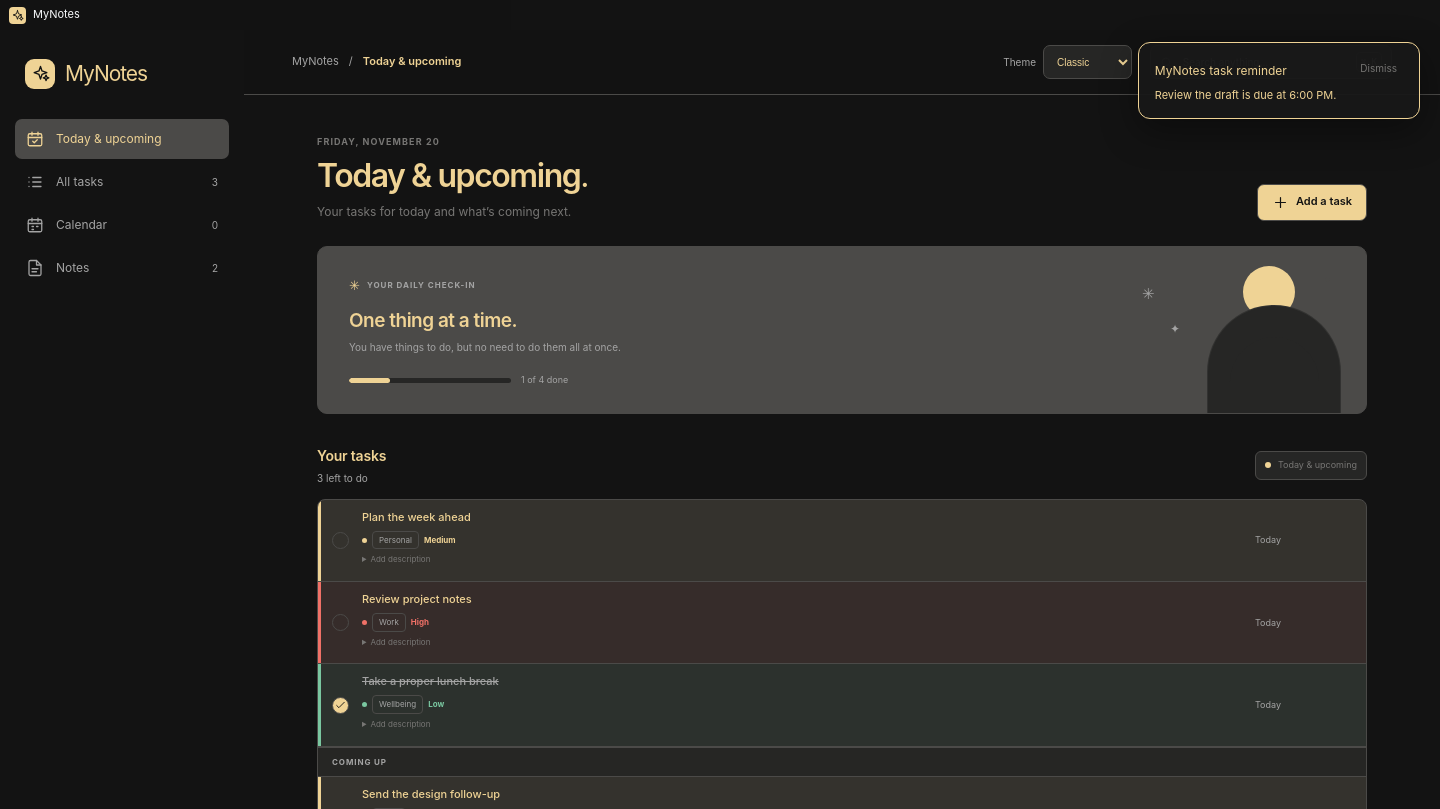
Test: Notes editor › shows and dismisses a reminder while the app window is open
Expected: the message shows "Review the draft is due at 6:00 PM.", [1155, 88, 1336, 102]
Click the button with aria-label "Dismiss reminder": (1379, 68) [1354, 57, 1403, 79]
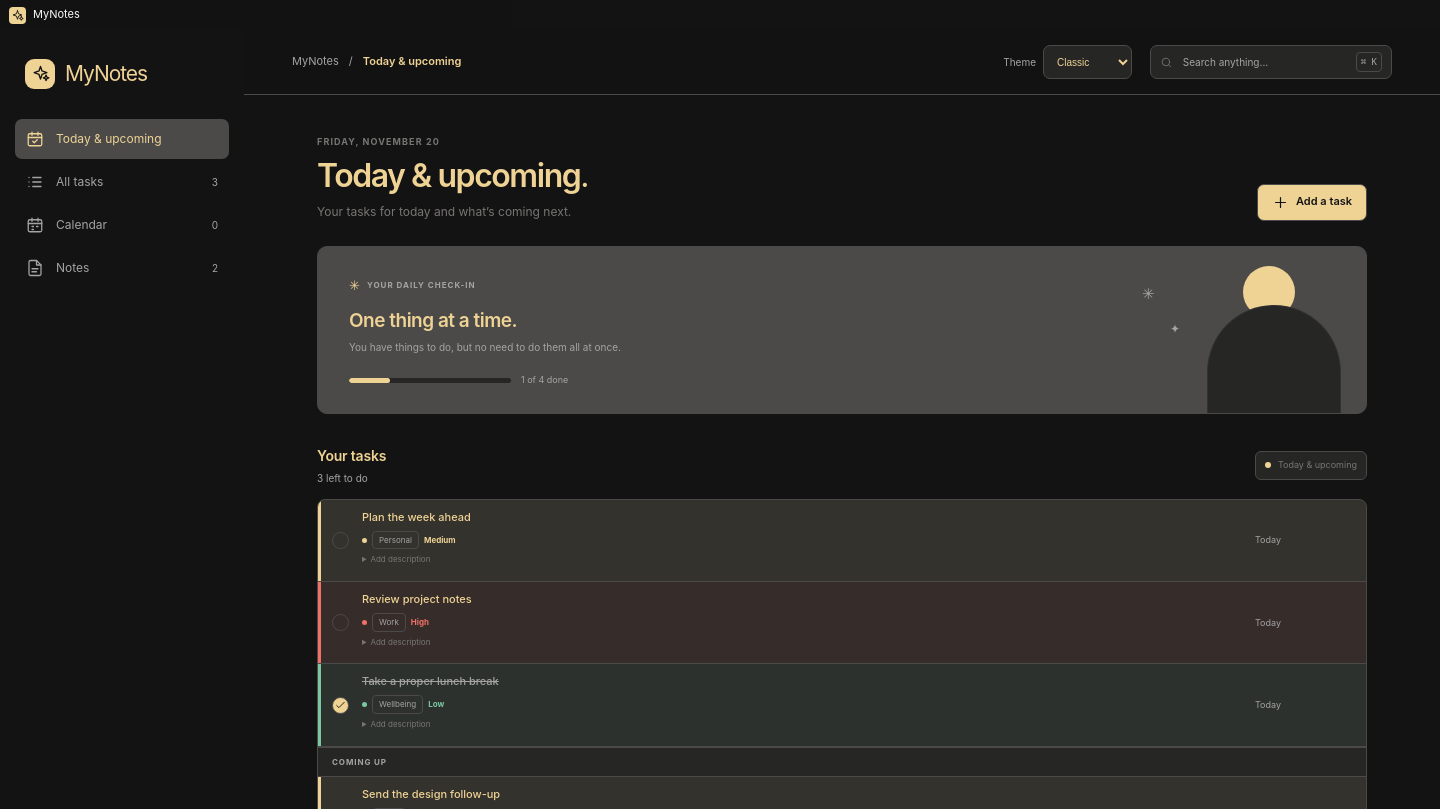
Result: the message "MyNotes task reminder Review the draft is due at 6:00 PM. Dismiss" is gone
